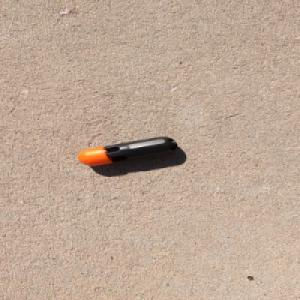PlasticPart: (75, 135, 180, 166)
